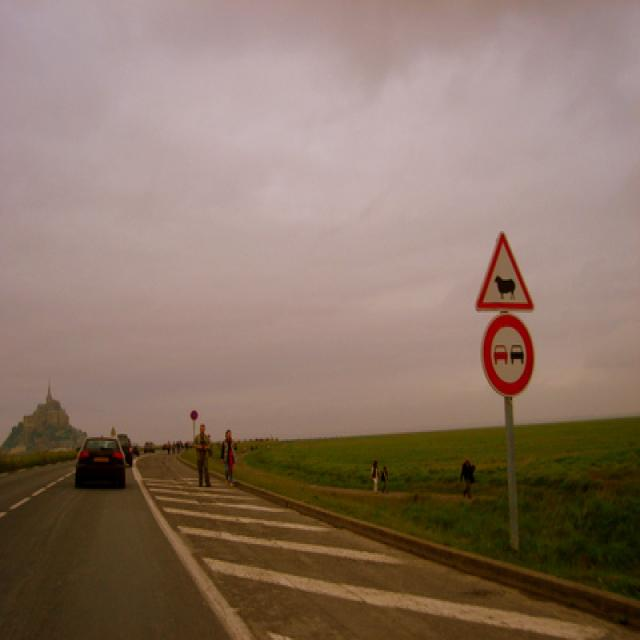light_vehicle: (76, 434, 127, 487), (109, 432, 135, 469), (130, 443, 142, 457), (142, 439, 154, 453), (162, 442, 170, 452)
